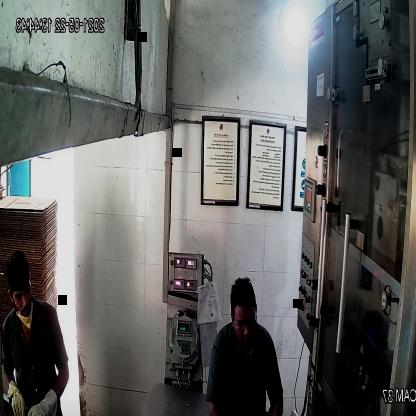goggles: (232, 312, 260, 335)
no_goggles: (11, 283, 32, 306)
